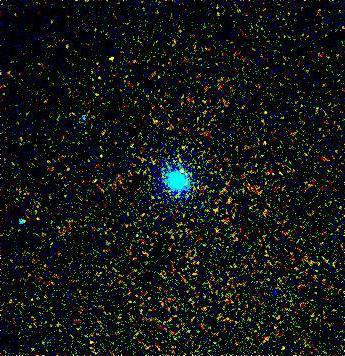star: (168, 154, 198, 184)
